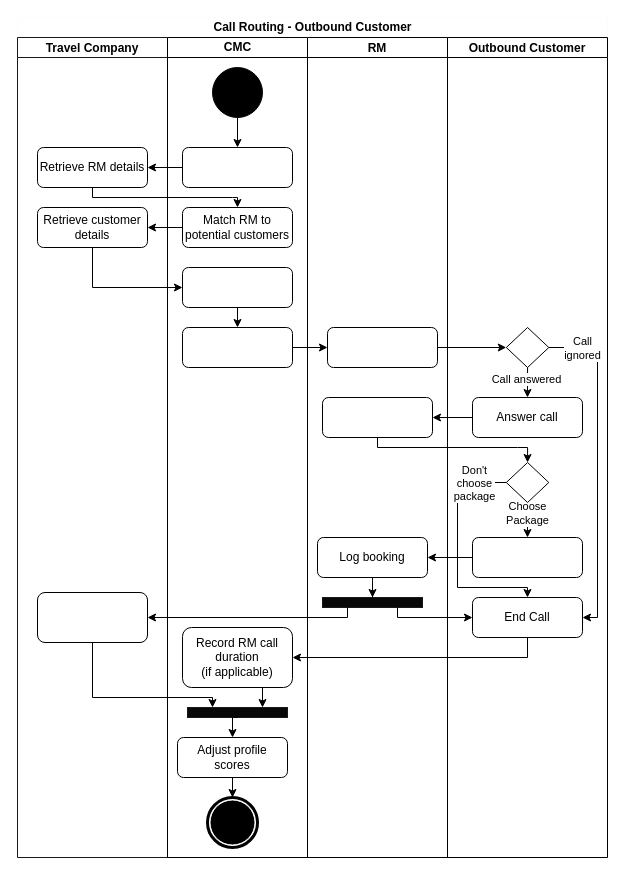
Some shapes in this 625 by 875 pixel diagram are drawn without their labels. Each missing label, with the centre of its shape:
"Advertise package" goes at point 377,417.
"Book Travel Package" goes at point 527,557.
"Dial customer number" goes at point 237,347.
"Generate a customer target list" goes at point 237,287.
"Make call" goes at point 382,347.
"Record booking in database (if applicable)" goes at point 92,617.
"Request RM details" goes at point 237,167.
